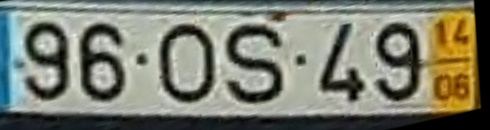4: (315, 19, 369, 106)
6: (75, 18, 131, 108)
9: (20, 17, 74, 107), (372, 20, 422, 105)
O: (157, 19, 219, 107)
S: (220, 19, 287, 109)
